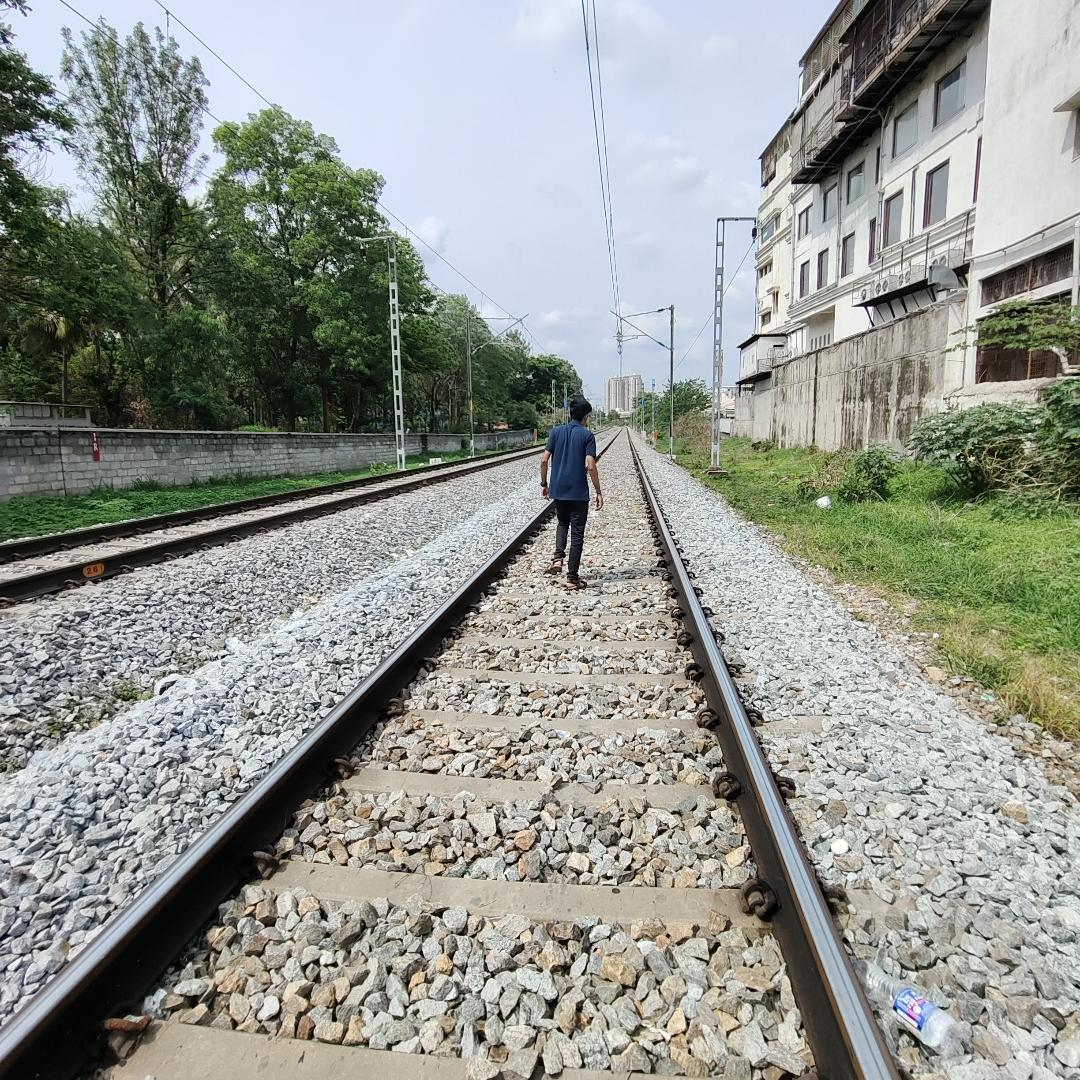standing: (523, 380, 609, 592)
track: (0, 433, 1080, 1080)
